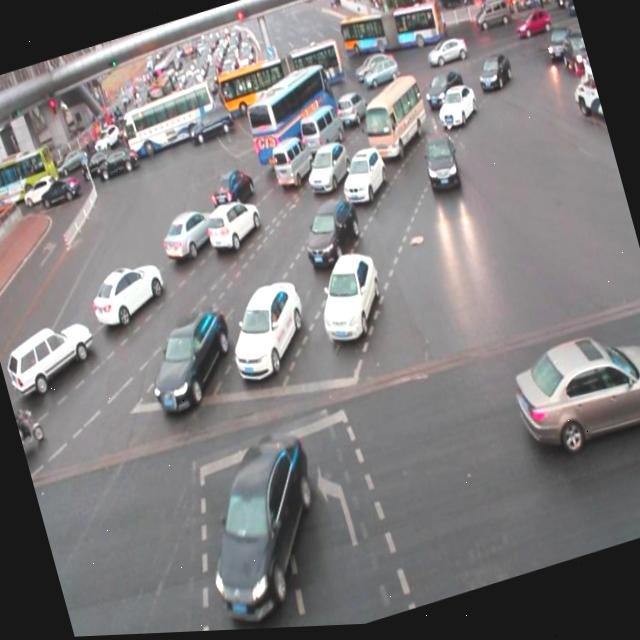car: (182, 424, 343, 628), (503, 313, 640, 471), (138, 306, 246, 421), (217, 274, 316, 391), (0, 311, 102, 403), (309, 250, 392, 354), (84, 255, 170, 333), (296, 195, 366, 273), (154, 201, 225, 268), (202, 196, 264, 256), (415, 128, 463, 201), (336, 148, 390, 210), (301, 142, 356, 199), (206, 164, 259, 218), (429, 84, 482, 138), (421, 71, 466, 114), (332, 90, 371, 136), (473, 55, 512, 100), (374, 83, 413, 126)
truck: (354, 76, 434, 167), (294, 103, 350, 164), (266, 135, 317, 193)
van: (238, 63, 348, 175)
